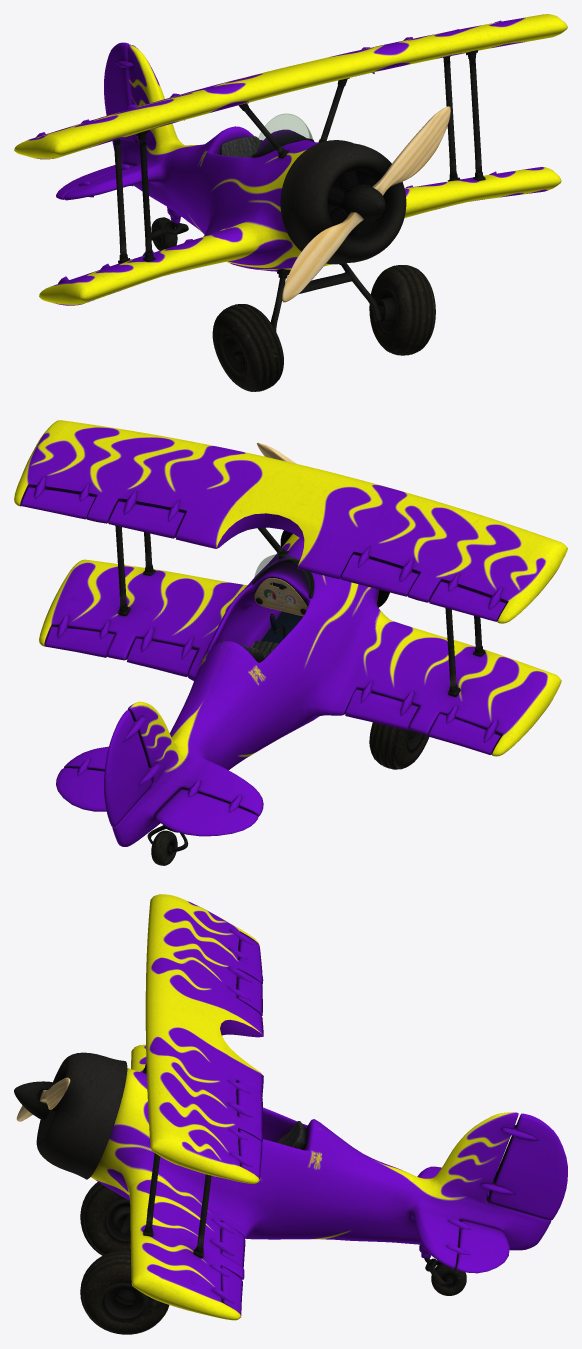
File: toy_plane (1).glb
3 renders of one model, top to bottom at view 1: azimuth 30°, elevation 25°; view 2: azimuth 150°, elevation 25°; view 3: azimuth 270°, elevation 25°, orthographic.
Parts seen in each view (by area): view 1: Object_3; view 2: Object_3; view 3: Object_3.
Boxes of the visible parts, x1,y1,x2,y2 form: Object_3: (14, 14, 567, 391); Object_3: (14, 420, 567, 865); Object_3: (14, 894, 567, 1334).
Bounding box in the file's own units: 182 × 97.9 × 169.
Materials: 1 (1 with a texture image).
